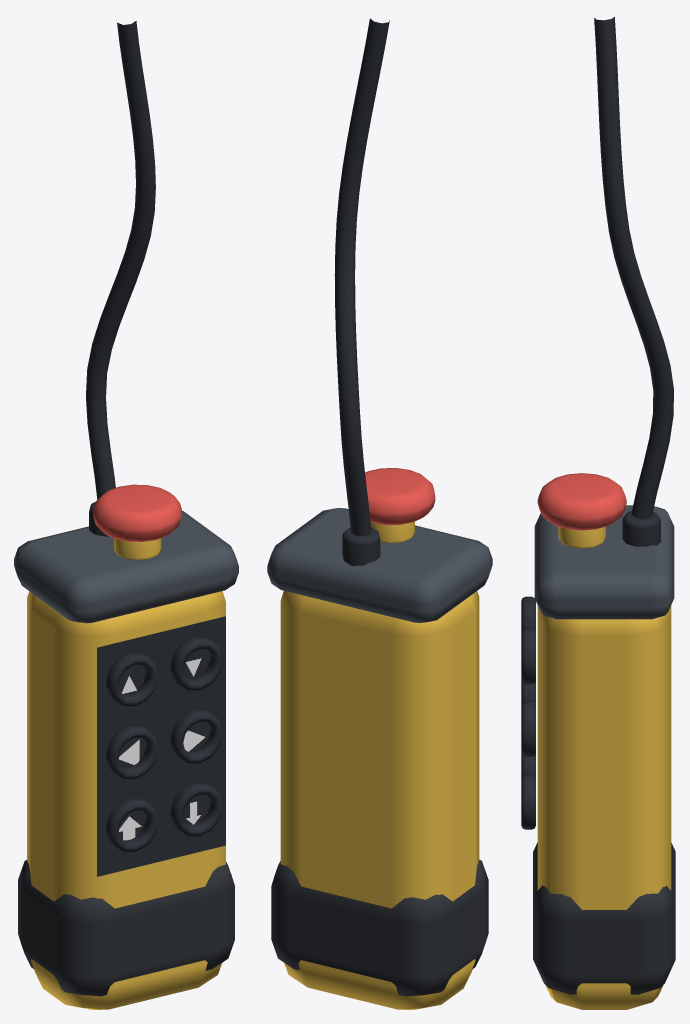
The model's file is botoeira.glb.
3 views of the same model, side by side, from view 1: azimuth 30°, elevation 25°; view 2: azimuth 150°, elevation 25°; view 3: azimuth 270°, elevation 25° (orthographic).
Visible parts, largest first — view 1: corpo, painel, pegada, tampa, cabo, aro_botao (×6), emergencia, base_emergencia; view 2: corpo, pegada, tampa, cabo, emergencia, prensa_cabo, base_emergencia; view 3: corpo, pegada, tampa, cabo, emergencia, aro_botao (×4), prensa_cabo, base_emergencia.
Boxes of the visible parts, left/top/right/bottom form: corpo: left=27, top=591, right=225, bottom=1009; painel: left=97, top=616, right=225, bottom=876; pegada: left=18, top=860, right=234, bottom=996; tampa: left=14, top=511, right=238, bottom=623; cabo: left=86, top=20, right=155, bottom=499; aro_botao (×6): left=106, top=637, right=222, bottom=852; emergencia: left=93, top=484, right=181, bottom=541; base_emergencia: left=114, top=538, right=161, bottom=560; corpo: left=280, top=591, right=479, bottom=1009; pegada: left=271, top=859, right=488, bottom=996; tampa: left=267, top=508, right=492, bottom=622; cabo: left=334, top=18, right=389, bottom=535; emergencia: left=347, top=468, right=435, bottom=525; prensa_cabo: left=342, top=527, right=380, bottom=565; base_emergencia: left=370, top=521, right=414, bottom=543; corpo: left=537, top=605, right=671, bottom=1009; pegada: left=533, top=842, right=675, bottom=994; tampa: left=534, top=505, right=674, bottom=619; cabo: left=594, top=17, right=673, bottom=519; emergencia: left=537, top=473, right=626, bottom=530; aro_botao (×4): left=521, top=596, right=535, bottom=829; prensa_cabo: left=622, top=511, right=660, bottom=546; base_emergencia: left=558, top=526, right=605, bottom=548.
Size of the model in its own units: 0.136 by 0.721 by 0.104.
6 materials, 1 textured.
